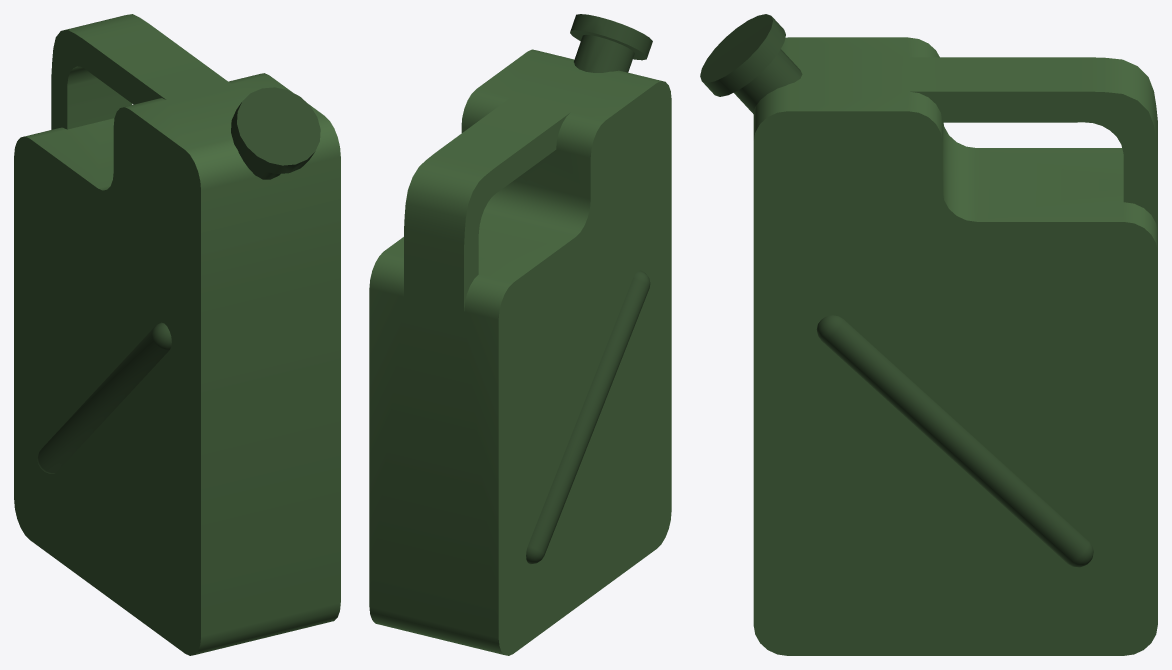
Rendered from Canister.fbx.
The picture shows the model from 3 angles, left to right: view 1: azimuth 30°, elevation 25°; view 2: azimuth 150°, elevation 25°; view 3: azimuth 270°, elevation 25°; orthographic projection. The views are drawn at different scales.
Visible parts, largest first — view 1: Canister; view 2: Canister; view 3: Canister.
Part boxes in pixels (x1,y1,x2,y2): Canister: (14,14,340,655); Canister: (369,14,671,655); Canister: (700,14,1157,655).
Size of the model in its own units: 0.2489 by 0.806 by 0.5589.
